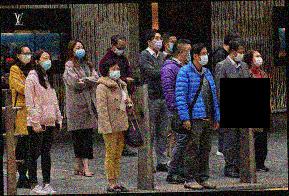with_mask: (40, 55, 53, 71), (198, 50, 210, 67), (20, 50, 33, 65), (74, 45, 87, 60), (109, 66, 122, 81), (152, 35, 164, 51), (234, 49, 246, 63), (252, 53, 264, 67), (113, 45, 126, 56), (184, 46, 192, 62)
